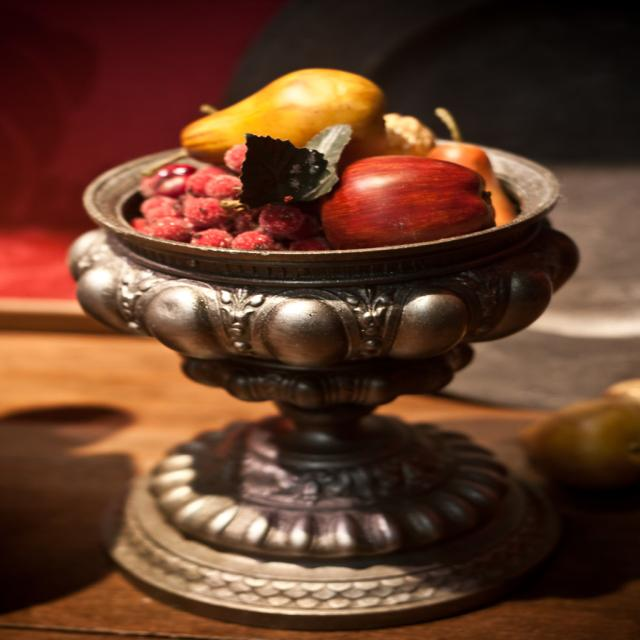Healty Apple: (294, 155, 494, 243)
